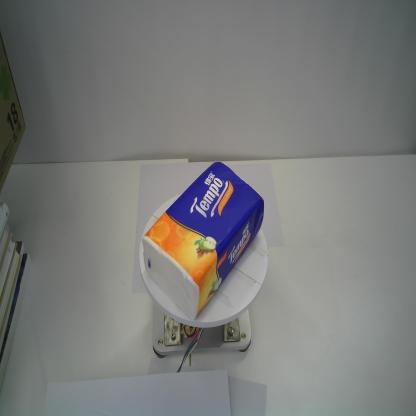Tissue: (140, 158, 266, 321)
